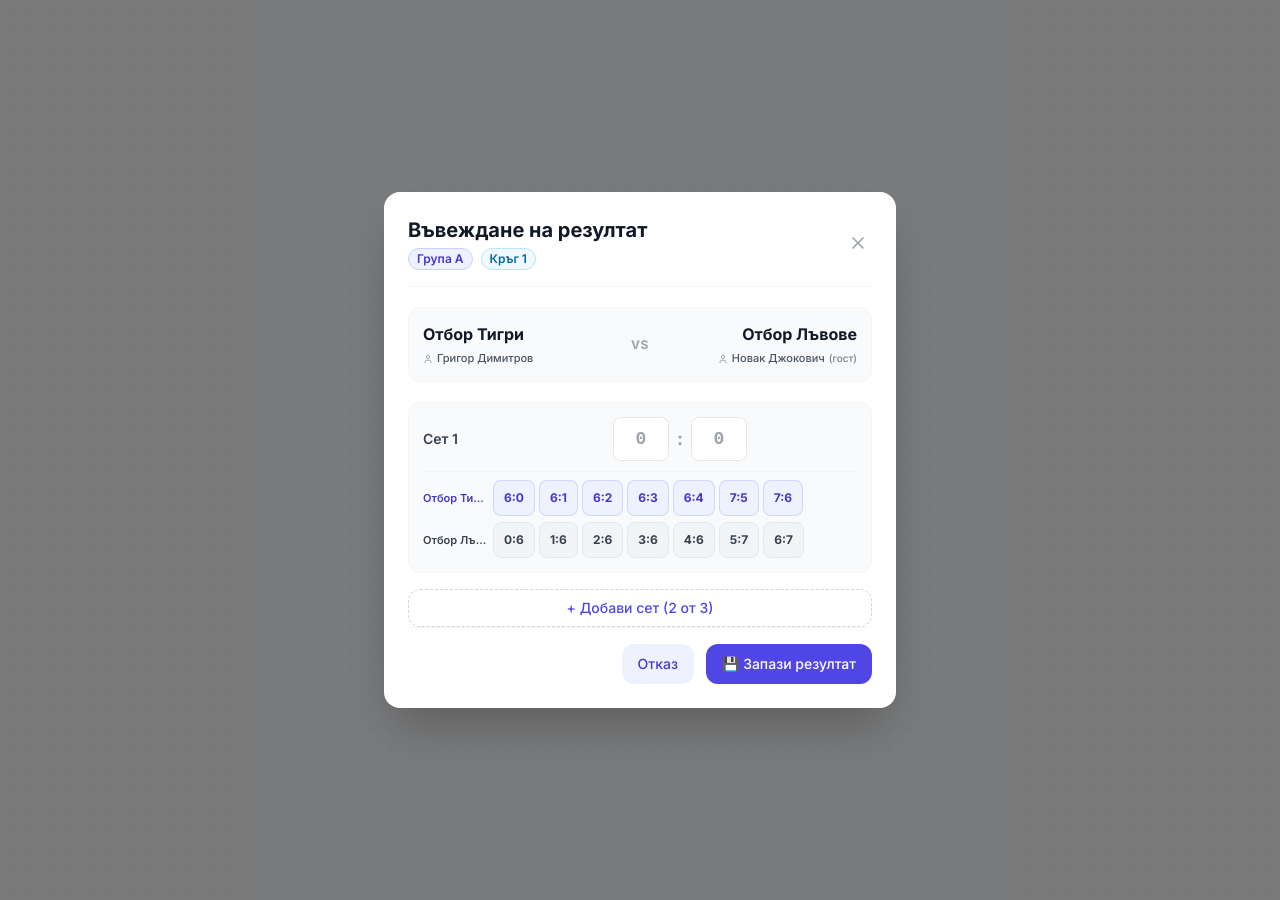
TournamentScoreModal Component › removes Set 2 when clicking remove button
The image size is (1280, 900).
What coordinates should you click on to do the following:
click the button "+ Добави сет (2 от 3)"
I would click on:
 (640, 608)
Its box is [408,589,872,627].
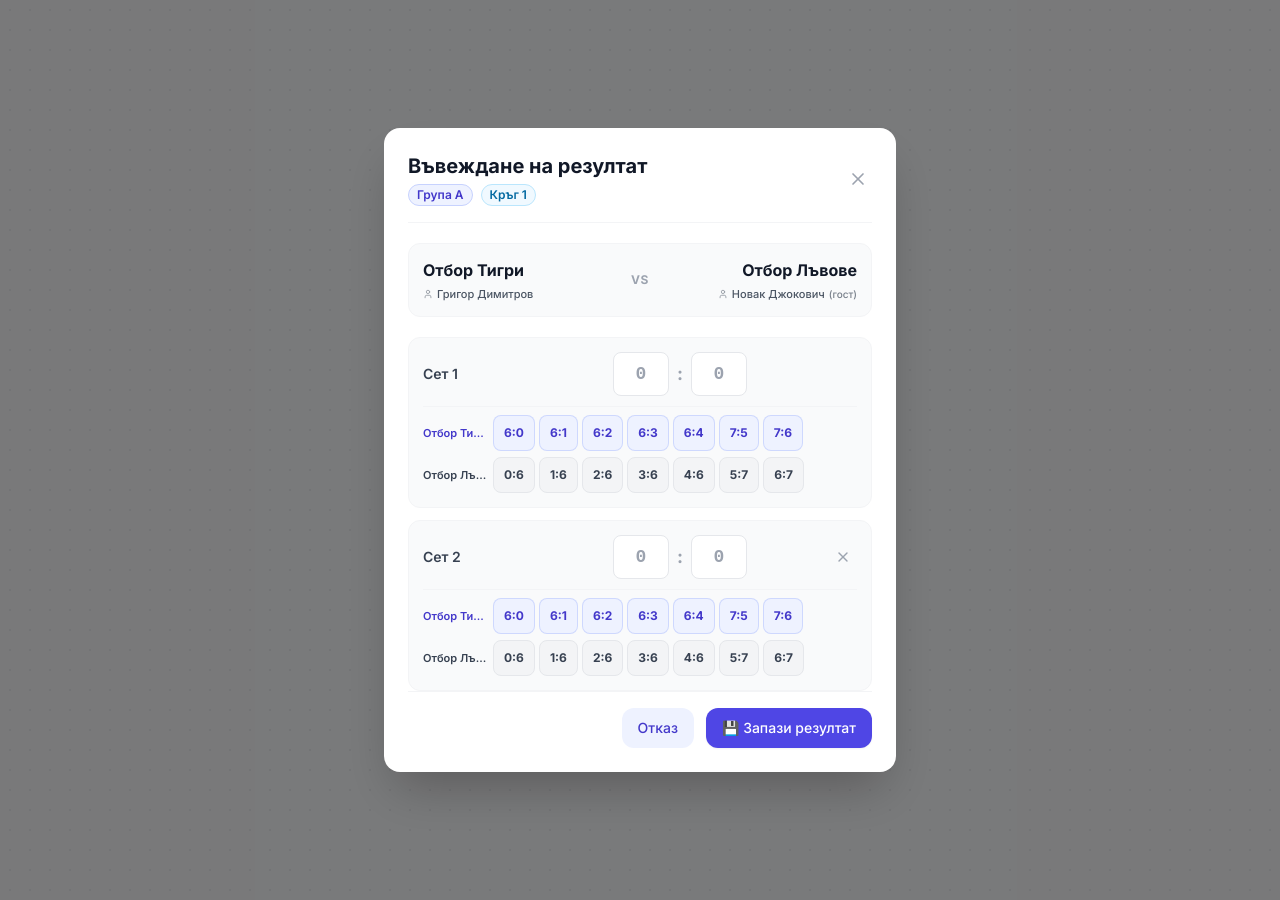
Now the text "Сет 2" is shown, box [423,548,461,565]
What coordinates should you click on to do the following:
click the button named "Премахни Сет 2"
I would click on:
 (843, 557)
Its box is [829,543,857,571].
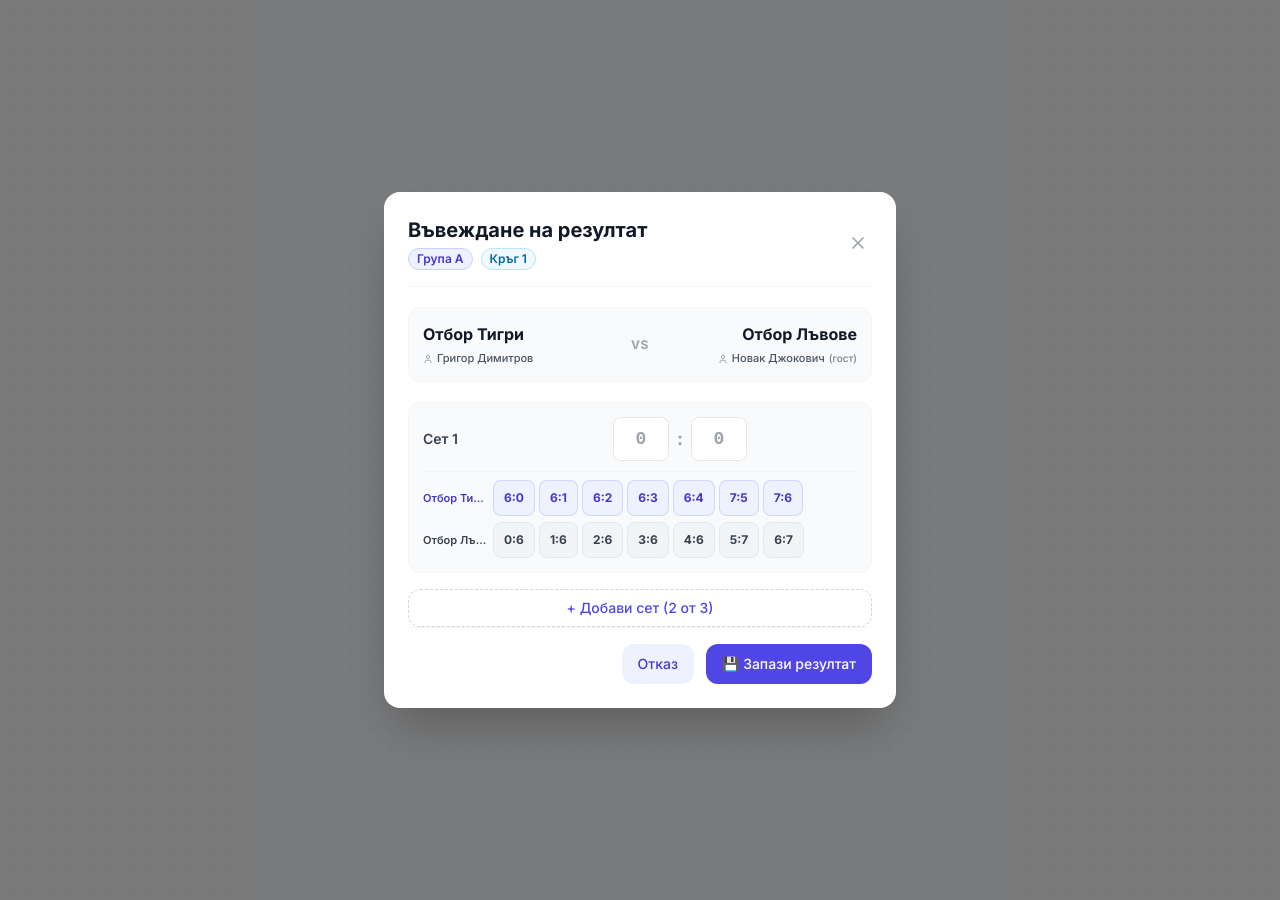
Now the text "Сет 2" is gone
Now the button "+ Добави сет (2 от 3)" is shown, box [408,589,872,627]
